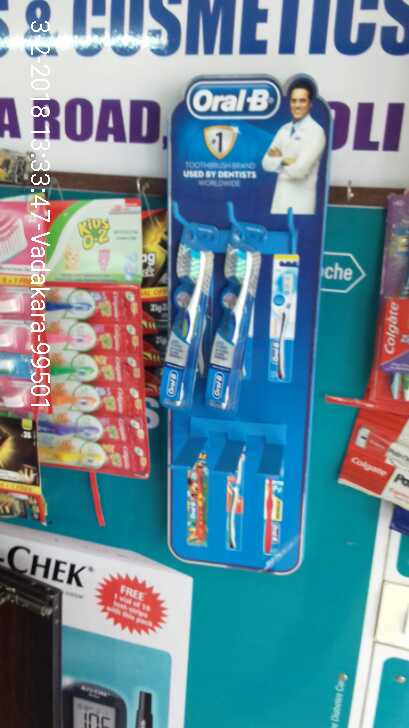oralb: (211, 221, 266, 422), (158, 224, 210, 409)
